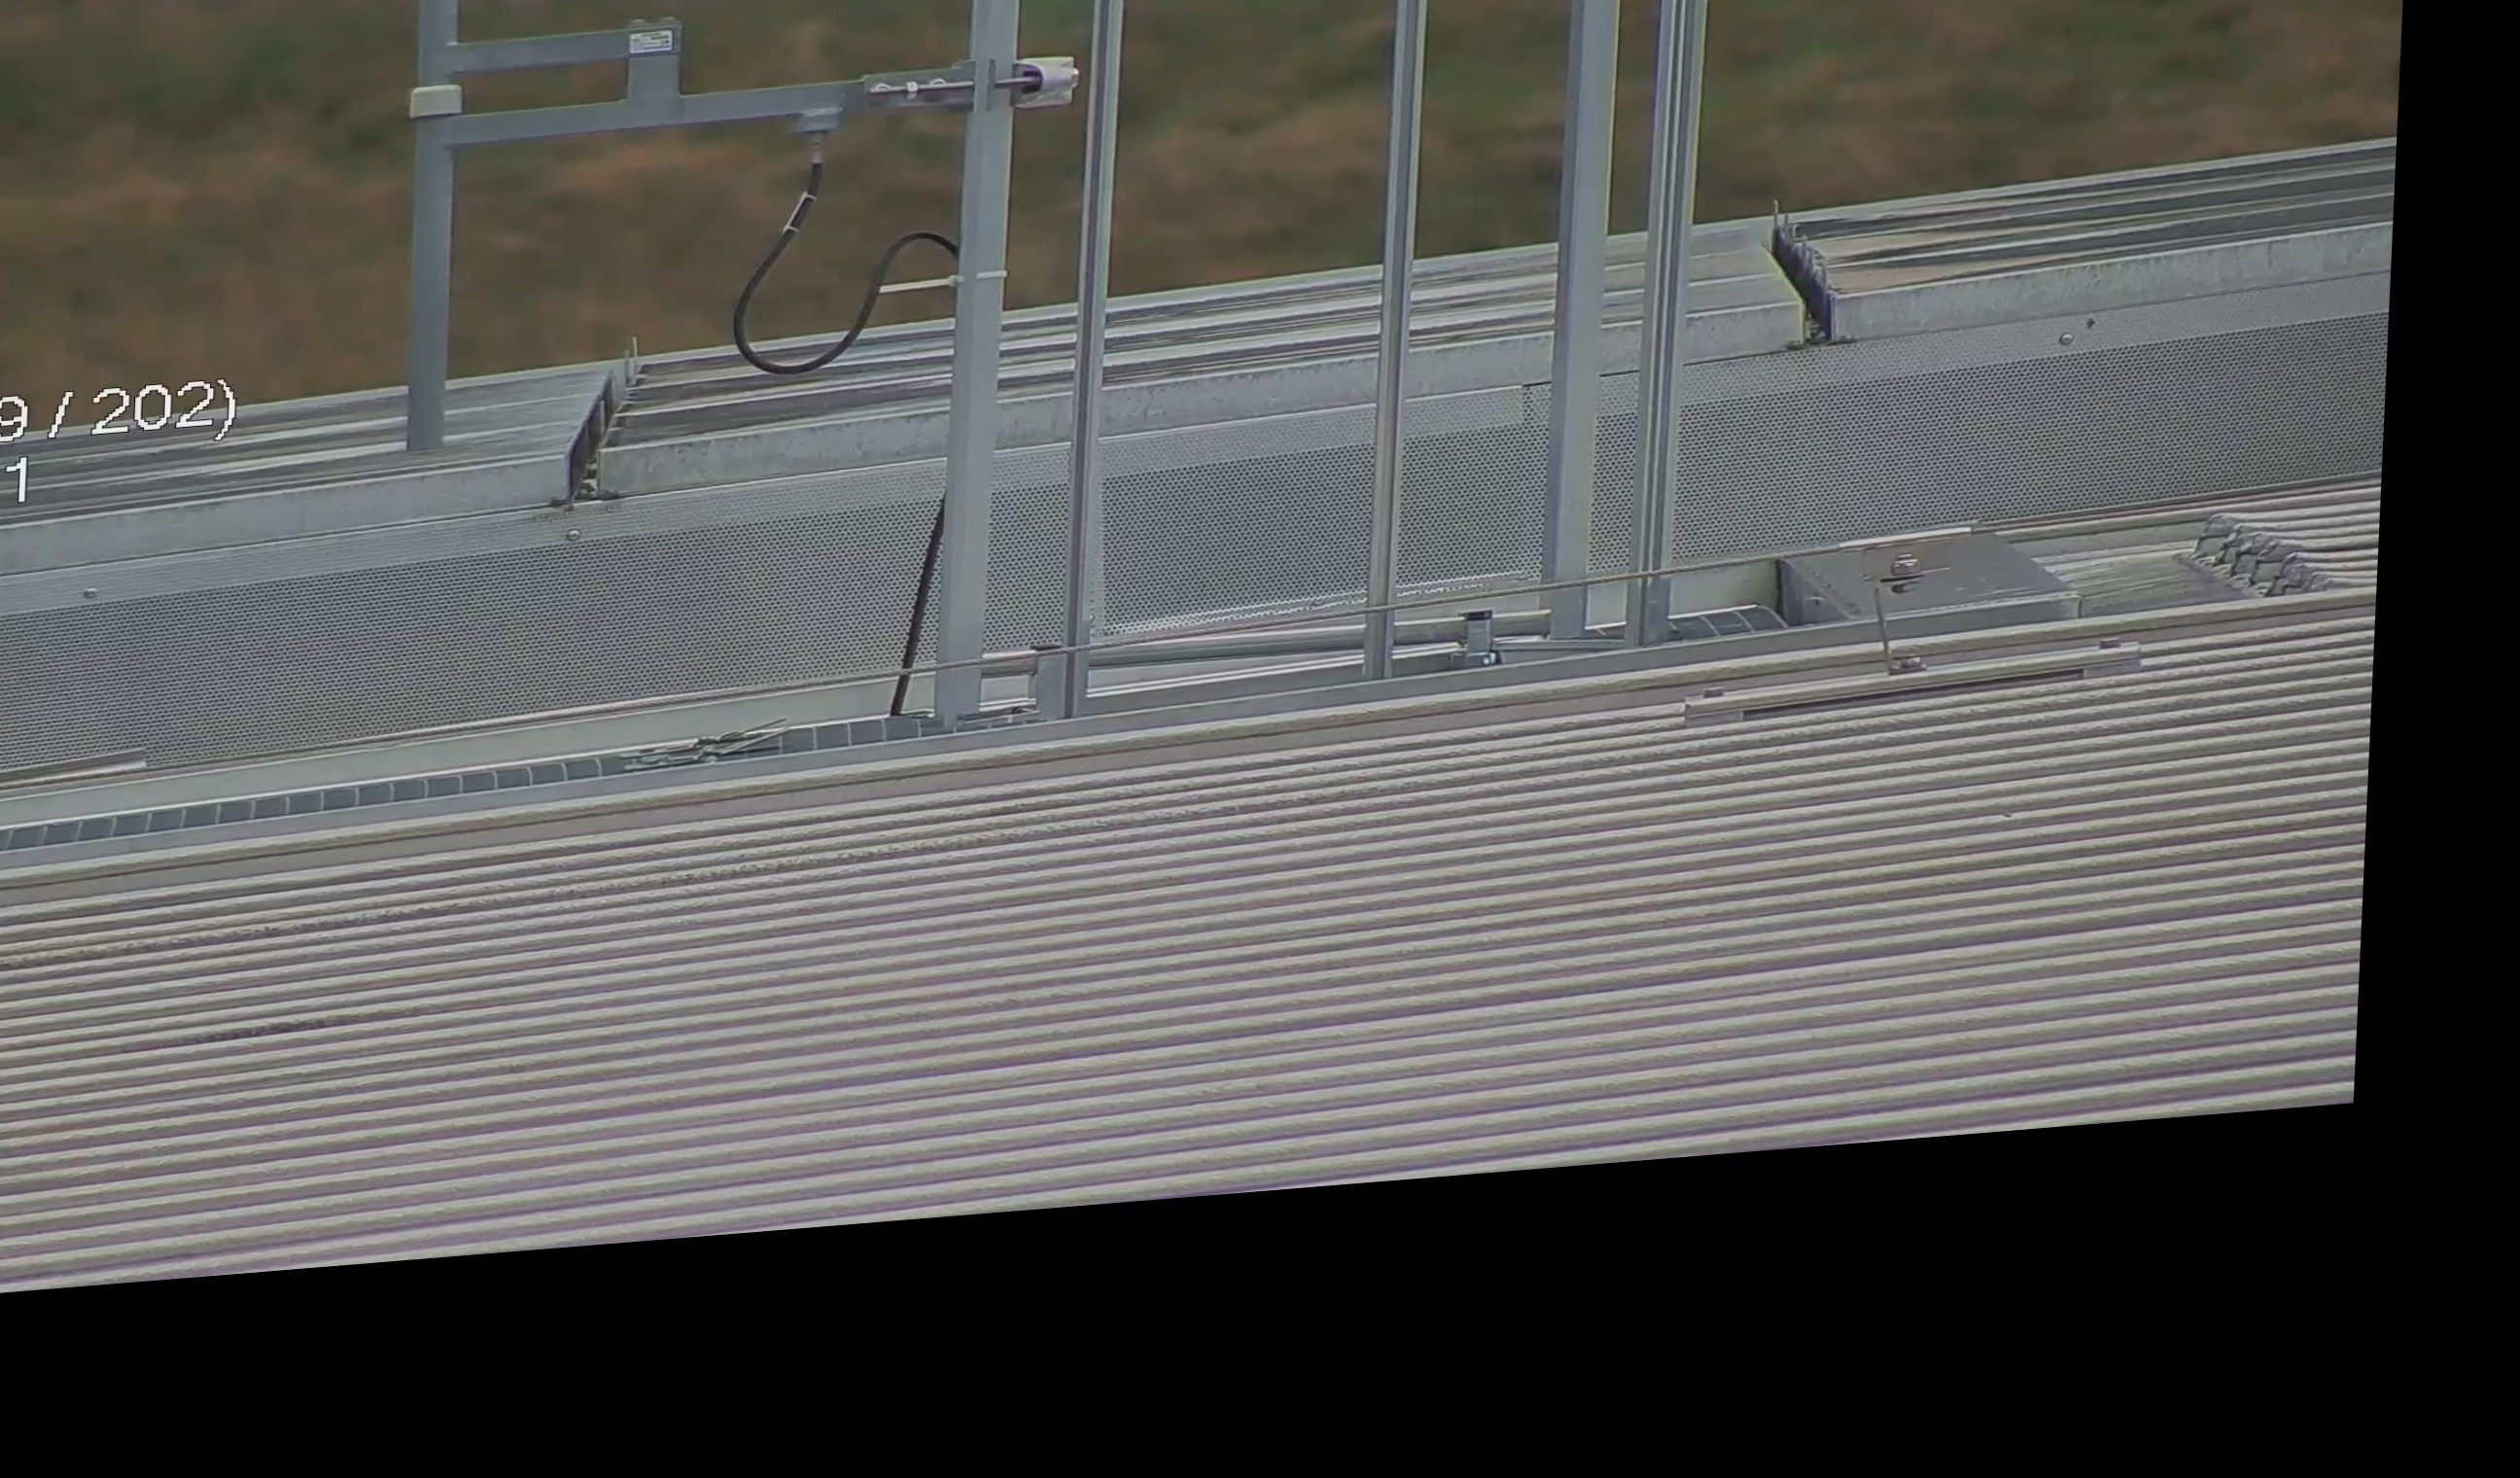Other: (1760, 199, 1882, 348)
